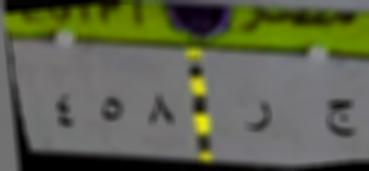4: (46, 89, 80, 140)
5: (91, 90, 127, 129)
8: (133, 86, 181, 138)
jeem: (316, 87, 362, 150)
raa: (240, 97, 282, 140)
